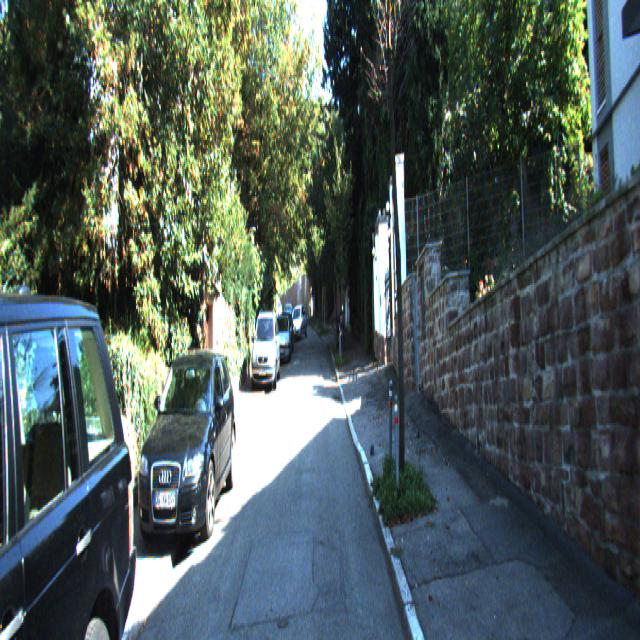Car: (0, 237, 145, 638), (132, 338, 237, 560), (251, 309, 281, 394), (274, 312, 292, 366), (289, 304, 308, 341)
